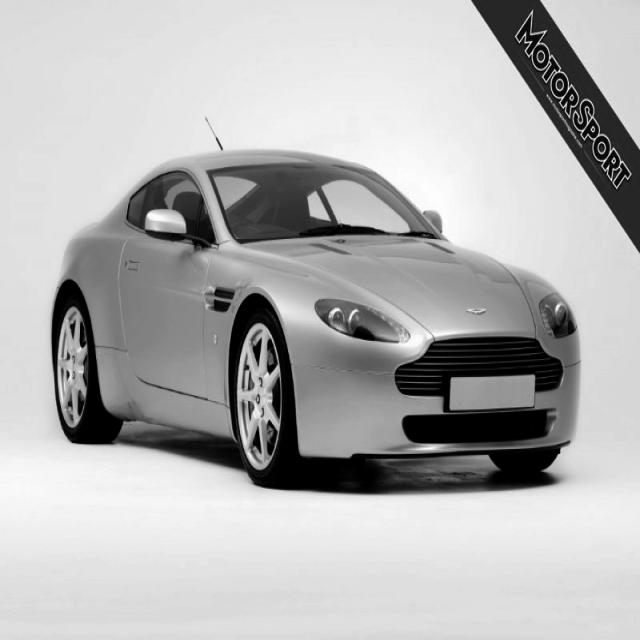car: (51, 124, 582, 488)
